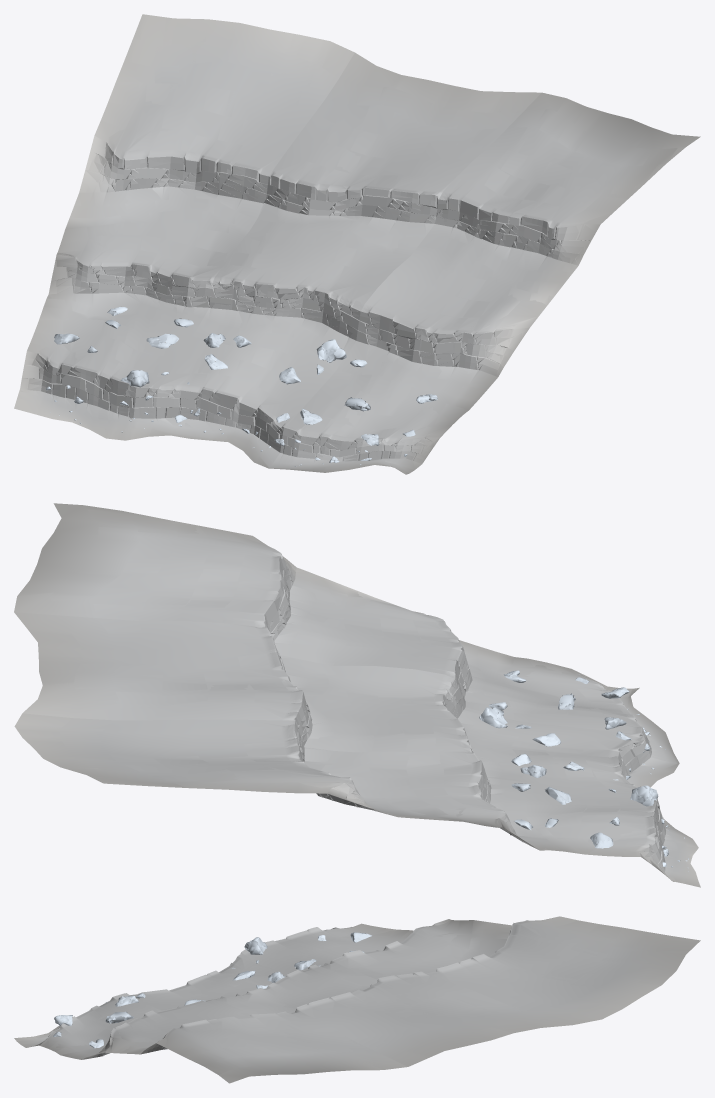
The model's file is quarry-cut.glb.
The picture shows the model from 3 angles, top to bottom: view 1: azimuth 30°, elevation 25°; view 2: azimuth 150°, elevation 25°; view 3: azimuth 270°, elevation 25°; orthographic projection. The views are drawn at different scales.
Visible parts, largest first — view 1: CutRock_2_far, CutRock_1_far, CutRock_2_near, CutRock_0_far, CutRock_0_near, CutRock_1_near, CutRubble_1_far, CutRubble_1_near, CutRubble_2_near, CutRubble_2_far, CutRubble_0_far, CutRubble_0_near; view 2: CutRock_1_far, CutRock_0_near, CutRock_0_far, CutRock_2_far, CutRock_1_near, CutRock_2_near, CutRubble_2_far, CutRubble_1_far, CutRubble_1_near, CutRubble_2_near, CutRubble_0_near; view 3: CutRock_2_far, CutRock_1_far, CutRock_2_near, CutRock_0_far, CutRock_0_near, CutRock_1_near, CutRubble_0_near, CutRubble_2_far, CutRubble_0_far, CutRubble_2_near, CutRubble_1_far.
Part boxes in pixels (x1=…): CutRock_2_far: x1=14, y1=15, x2=354, y2=440; CutRock_1_far: x1=149, y1=52, x2=540, y2=468; CutRock_2_near: x1=14, y1=14, x2=354, y2=440; CutRock_0_far: x1=268, y1=92, x2=700, y2=474; CutRock_0_near: x1=270, y1=98, x2=699, y2=474; CutRock_1_near: x1=149, y1=54, x2=540, y2=467; CutRubble_1_far: x1=176, y1=333, x2=344, y2=451; CutRubble_1_near: x1=175, y1=333, x2=346, y2=446; CutRubble_2_near: x1=45, y1=308, x2=193, y2=414; CutRubble_2_far: x1=46, y1=306, x2=193, y2=432; CutRubble_0_far: x1=294, y1=360, x2=436, y2=466; CutRubble_0_near: x1=295, y1=359, x2=437, y2=462; CutRock_1_far: x1=14, y1=612, x2=679, y2=827; CutRock_0_near: x1=17, y1=503, x2=679, y2=763; CutRock_0_far: x1=14, y1=503, x2=679, y2=763; CutRock_2_far: x1=14, y1=713, x2=700, y2=887; CutRock_1_near: x1=23, y1=613, x2=675, y2=816; CutRock_2_near: x1=15, y1=714, x2=697, y2=883; CutRubble_2_far: x1=512, y1=783, x2=688, y2=871; CutRubble_1_far: x1=480, y1=707, x2=654, y2=780; CutRubble_1_near: x1=479, y1=707, x2=650, y2=777; CutRubble_2_near: x1=512, y1=783, x2=668, y2=866; CutRubble_0_near: x1=489, y1=670, x2=649, y2=735; CutRock_2_far: x1=238, y1=916, x2=698, y2=1024; CutRock_1_far: x1=125, y1=956, x2=572, y2=1066; CutRock_2_near: x1=238, y1=919, x2=700, y2=1024; CutRock_0_far: x1=14, y1=993, x2=407, y2=1083; CutRock_0_near: x1=14, y1=994, x2=396, y2=1083; CutRock_1_near: x1=130, y1=959, x2=564, y2=1065; CutRubble_0_near: x1=53, y1=995, x2=138, y2=1048; CutRubble_2_far: x1=246, y1=933, x2=370, y2=970; CutRubble_0_far: x1=53, y1=996, x2=133, y2=1047; CutRubble_2_near: x1=244, y1=932, x2=371, y2=969; CutRubble_1_far: x1=137, y1=967, x2=282, y2=1004.
Bounding box in the file's own units: 94.24 × 24.26 × 95.97.
